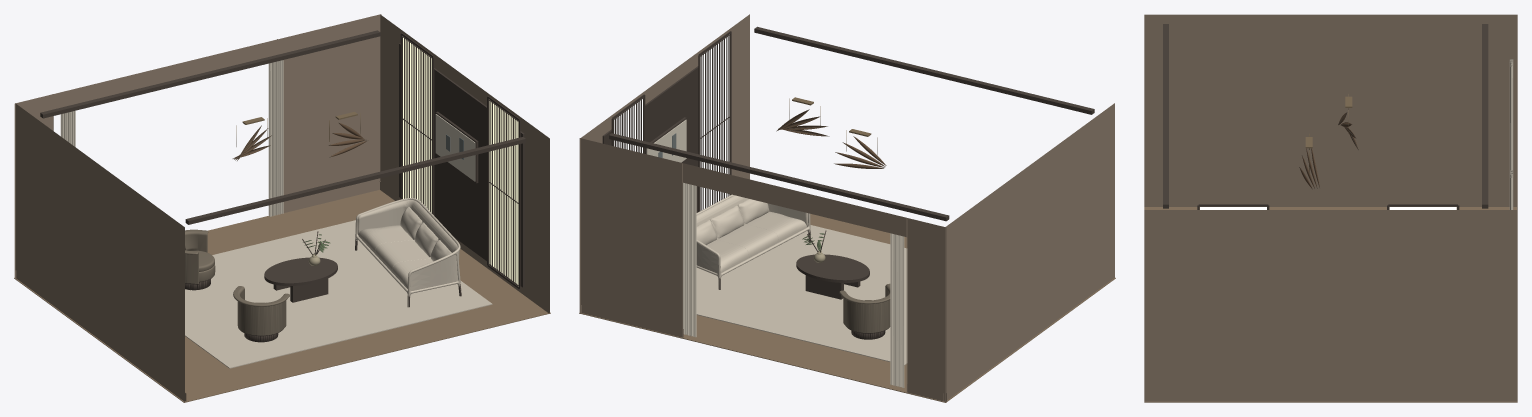
The model's file is great-1.glb.
3 renders of one model, left to right at view 1: azimuth 30°, elevation 25°; view 2: azimuth 150°, elevation 25°; view 3: azimuth 270°, elevation 25°, orthographic. The views are drawn at different scales.
Parts seen in each view (by area): view 1: DESIGN | great removable wall finish, DESIGN | Great room primary ground, DESIGN | great floor finish, DESIGN | Great room vertical garden boundary diffuse backing (×2), DESIGN | Retreat timber wall plane, DESIGN | Great room sofa facing conversation, DESIGN | Kumiko | Great room vertical garden boundary, DESIGN | Kumiko | Great room vertical garden boundary.001, DESIGN | Retreat concealed light edge.001, DESIGN | Retreat concealed light edge, DESIGN | Great room soft window edge.001, DESIGN | Required Bellustar swivel chair one (+6 smaller); view 2: DESIGN | great removable wall finish, DESIGN | Great room primary ground, DESIGN | great floor finish, DESIGN | Great room sofa facing conversation, DESIGN | Kumiko | Great room vertical garden boundary, DESIGN | Great room vertical garden boundary diffuse backing (×2), DESIGN | Retreat timber wall plane, DESIGN | Retreat concealed light edge, DESIGN | Retreat concealed light edge.001, DESIGN | Great room soft window edge, DESIGN | Great room soft window edge.001, DESIGN | Required Bellustar swivel chair two (+6 smaller); view 3: DESIGN | great removable wall finish, DESIGN | great floor finish, DESIGN | Retreat concealed light edge.001, DESIGN | Retreat concealed light edge, DESIGN | Great room soft window edge, DESIGN | Required Flou pendant 2.
Part boxes in pixels (x1,y1,x2,y2): DESIGN | great removable wall finish: (14,14,549,401); DESIGN | Great room primary ground: (185,220,492,368); DESIGN | great floor finish: (14,190,550,402); DESIGN | Great room vertical garden boundary diffuse backing (×2): (403,37,518,284); DESIGN | Retreat timber wall plane: (399,43,524,287); DESIGN | Great room sofa facing conversation: (355,198,461,307); DESIGN | Kumiko | Great room vertical garden boundary: (487,96,520,289); DESIGN | Kumiko | Great room vertical garden boundary.001: (400,33,434,215); DESIGN | Retreat concealed light edge.001: (40,30,380,118); DESIGN | Retreat concealed light edge: (185,137,525,224); DESIGN | Great room soft window edge.001: (268,60,283,216); DESIGN | Required Bellustar swivel chair one: (233,286,289,342); DESIGN | great removable wall finish: (579,14,1114,401); DESIGN | Great room primary ground: (696,225,907,365); DESIGN | great floor finish: (579,214,1115,402); DESIGN | Great room sofa facing conversation: (696,194,810,289); DESIGN | Kumiko | Great room vertical garden boundary: (698,31,731,211); DESIGN | Great room vertical garden boundary diffuse backing (×2): (614,36,729,210); DESIGN | Retreat timber wall plane: (602,66,698,212); DESIGN | Retreat concealed light edge: (754,26,1094,114); DESIGN | Retreat concealed light edge.001: (609,133,949,221); DESIGN | Great room soft window edge: (890,233,904,387); DESIGN | Great room soft window edge.001: (683,182,696,337); DESIGN | Required Bellustar swivel chair two: (839,283,890,339); DESIGN | great removable wall finish: (1144,14,1517,401); DESIGN | great floor finish: (1144,207,1517,402); DESIGN | Retreat concealed light edge.001: (1482,24,1488,208); DESIGN | Retreat concealed light edge: (1163,24,1168,208); DESIGN | Great room soft window edge: (1509,59,1513,170); DESIGN | Required Flou pendant 2: (1299,148,1319,189).
Size of the model in its own units: 6 by 2.78 by 4.82.
